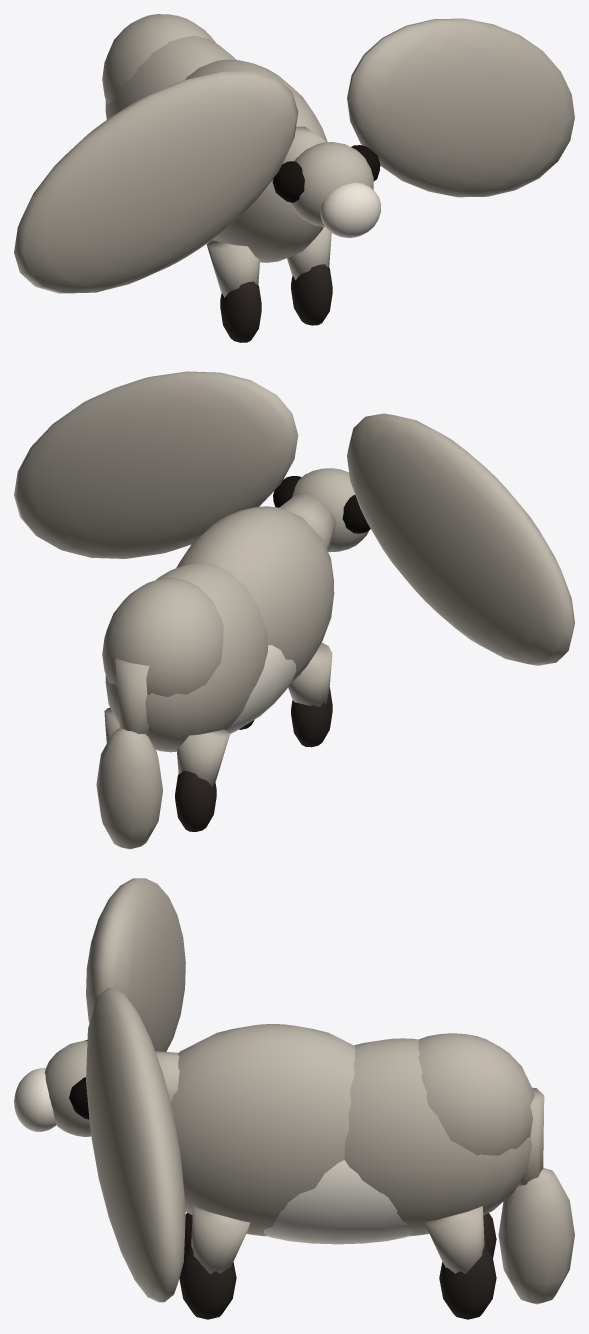
Rendered from rabbit.glb.
3 views of the same model, one above another, from view 1: azimuth 30°, elevation 25°; view 2: azimuth 150°, elevation 25°; view 3: azimuth 270°, elevation 25° (orthographic). The views are drawn at different scales.
Visible parts, largest first — view 1: rabbit; view 2: rabbit; view 3: rabbit.
Boxes of the visible parts, <box> form: rabbit: <box>14,14,574,342</box>; rabbit: <box>14,371,574,849</box>; rabbit: <box>14,878,574,1319</box>.
Bounding box in the file's own units: 0.9469 × 0.513 × 0.7336.
